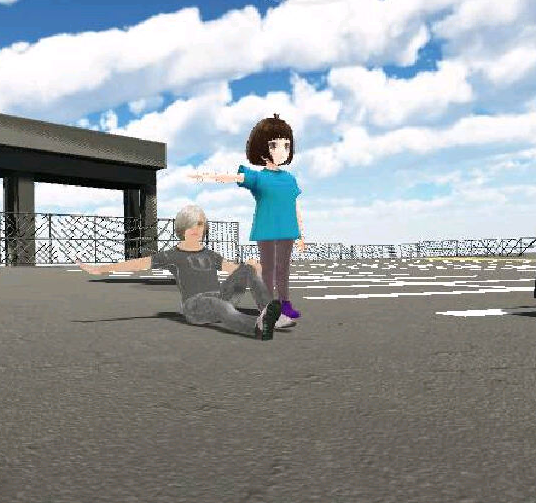doubleP_left: (75, 111, 307, 340)
